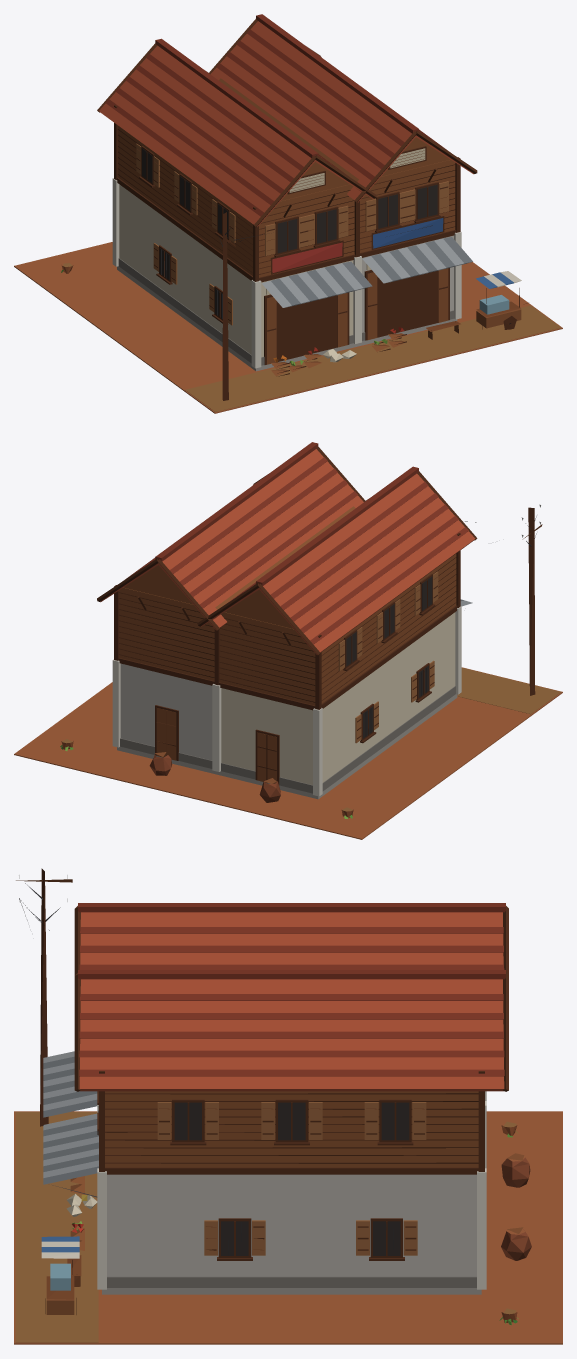
The model's file is shop_2.glb.
The picture shows the model from 3 angles, top to bottom: view 1: azimuth 30°, elevation 25°; view 2: azimuth 150°, elevation 25°; view 3: azimuth 270°, elevation 25°; orthographic projection. The views are drawn at different scales.
Parts seen in each view (by area): view 1: body, windows; view 2: body, windows; view 3: body, windows.
Boxes of the visible parts, box(x1,y1,x2,y2) form: body: box(14, 14, 562, 413); windows: box(142, 148, 437, 318); body: box(14, 442, 562, 839); windows: box(346, 576, 432, 738); body: box(14, 868, 562, 1344); windows: box(81, 1102, 409, 1255).
Bounding box in the file's own units: 15.9 × 9.59 × 15.9.
